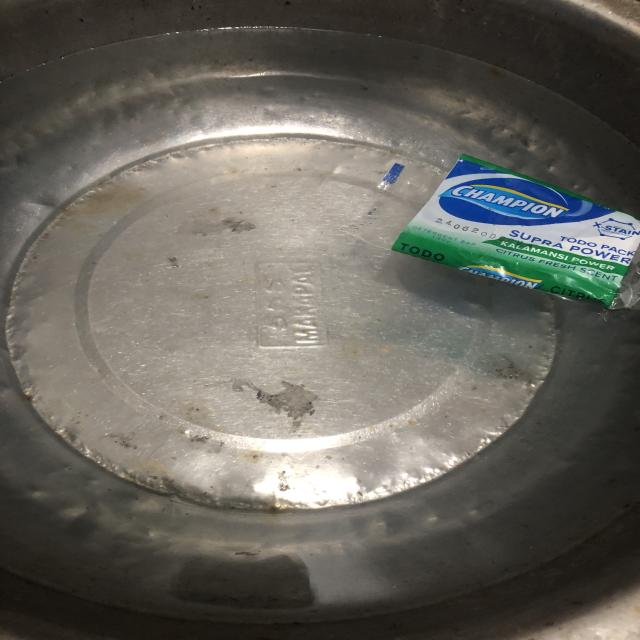Plastic Wrapper: (332, 146, 640, 335)
